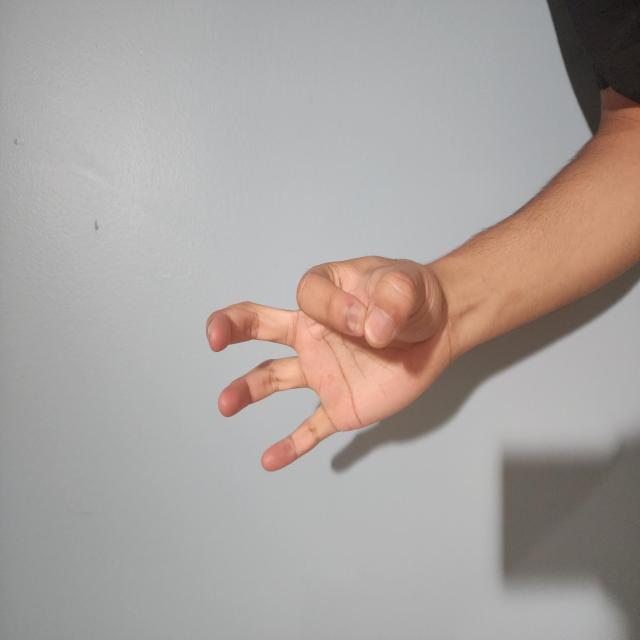F: (125, 270, 292, 596)
